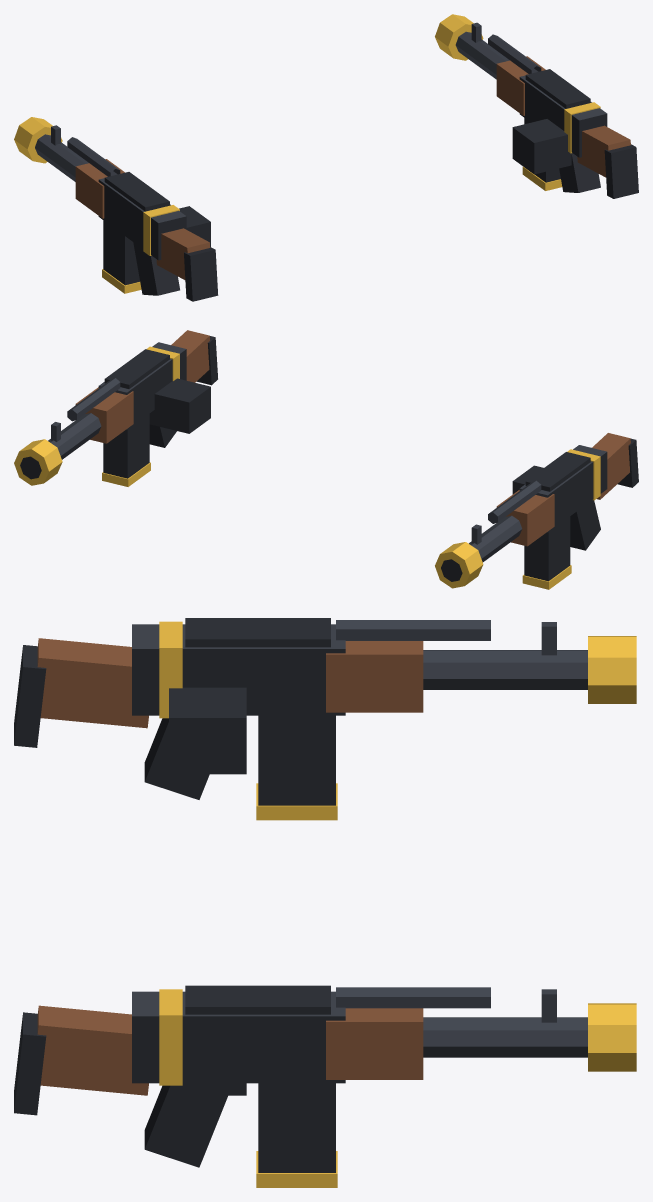
File: G_Mermo_4.fbx
3 views of the same model, one above another, from view 1: azimuth 30°, elevation 25°; view 2: azimuth 150°, elevation 25°; view 3: azimuth 270°, elevation 25° (orthographic). The views are drawn at different scales.
Visible parts, largest first — view 1: G_Mermo_4; view 2: G_Mermo_4; view 3: G_Mermo_4.
Boxes of the visible parts, bbox=[...] form: G_Mermo_4: bbox=[14, 14, 638, 301]; G_Mermo_4: bbox=[14, 330, 638, 589]; G_Mermo_4: bbox=[14, 618, 636, 1187].
Size of the model in its own units: 1.21 by 0.2688 by 0.805.
